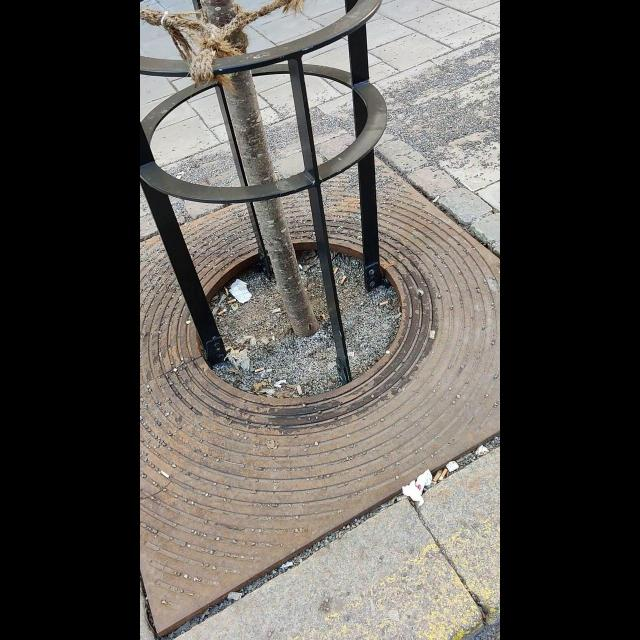cigarette: (226, 591, 242, 602), (295, 382, 306, 393), (159, 470, 171, 480), (441, 467, 448, 479), (430, 329, 436, 341), (226, 299, 237, 305), (272, 309, 281, 316), (217, 310, 226, 317), (254, 367, 265, 372), (434, 472, 439, 483), (341, 274, 346, 284), (332, 266, 340, 272), (379, 302, 390, 306), (434, 196, 440, 203), (224, 288, 230, 295)
